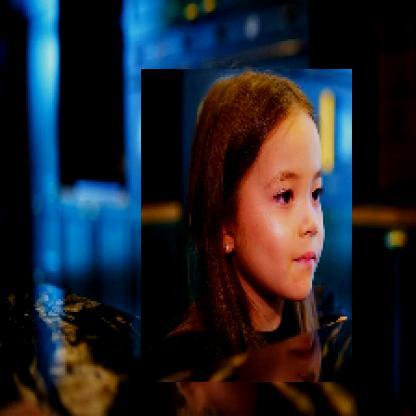child: (142, 71, 354, 385)
